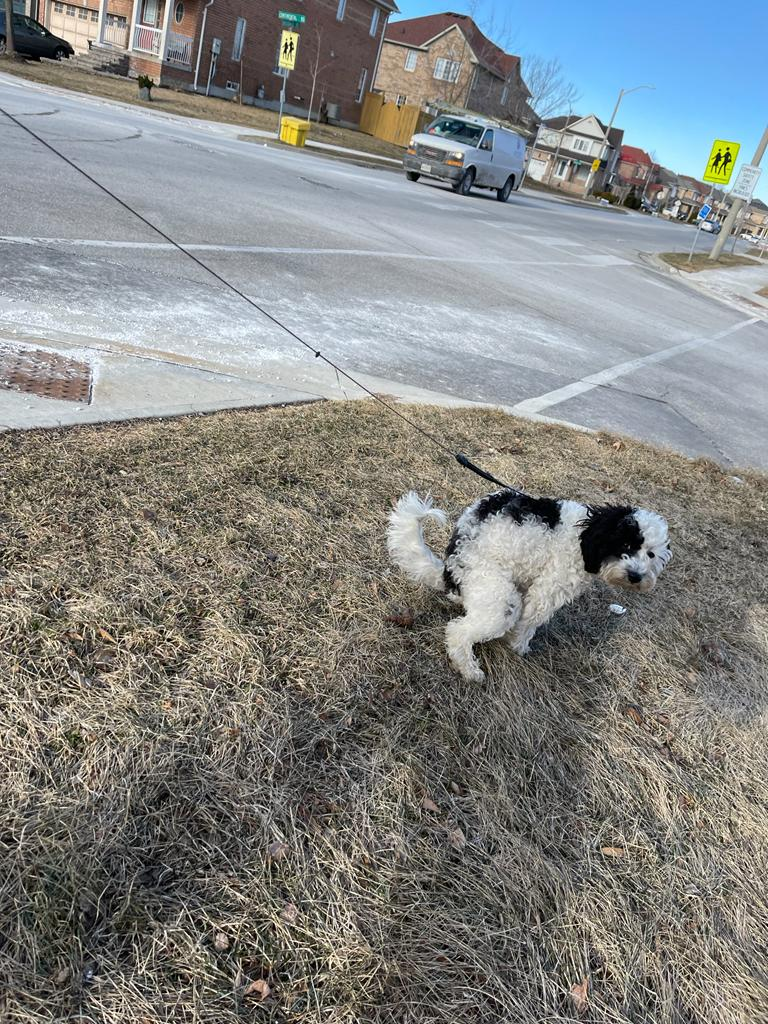dog_pooping: (380, 472, 685, 698)
